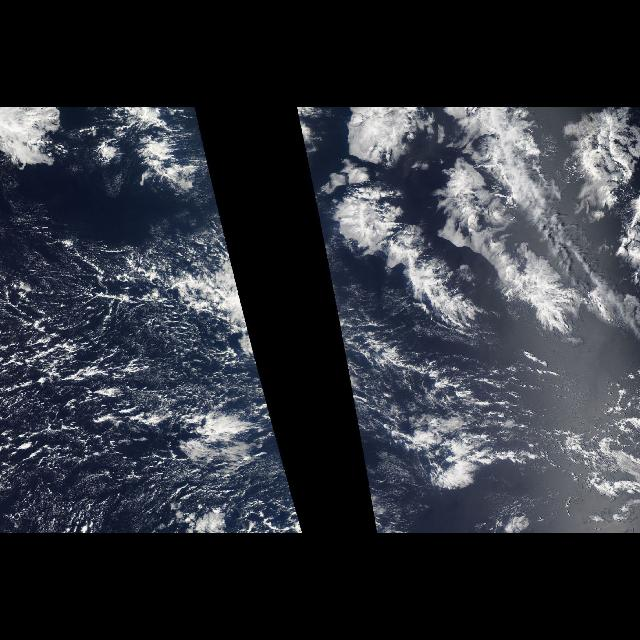Fish: (310, 108, 638, 352)
Flower: (314, 114, 638, 334)
Gravel: (1, 273, 252, 533), (340, 332, 558, 486)
